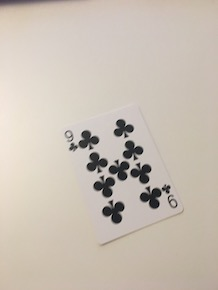NineOfClubs: (57, 99, 188, 249)
